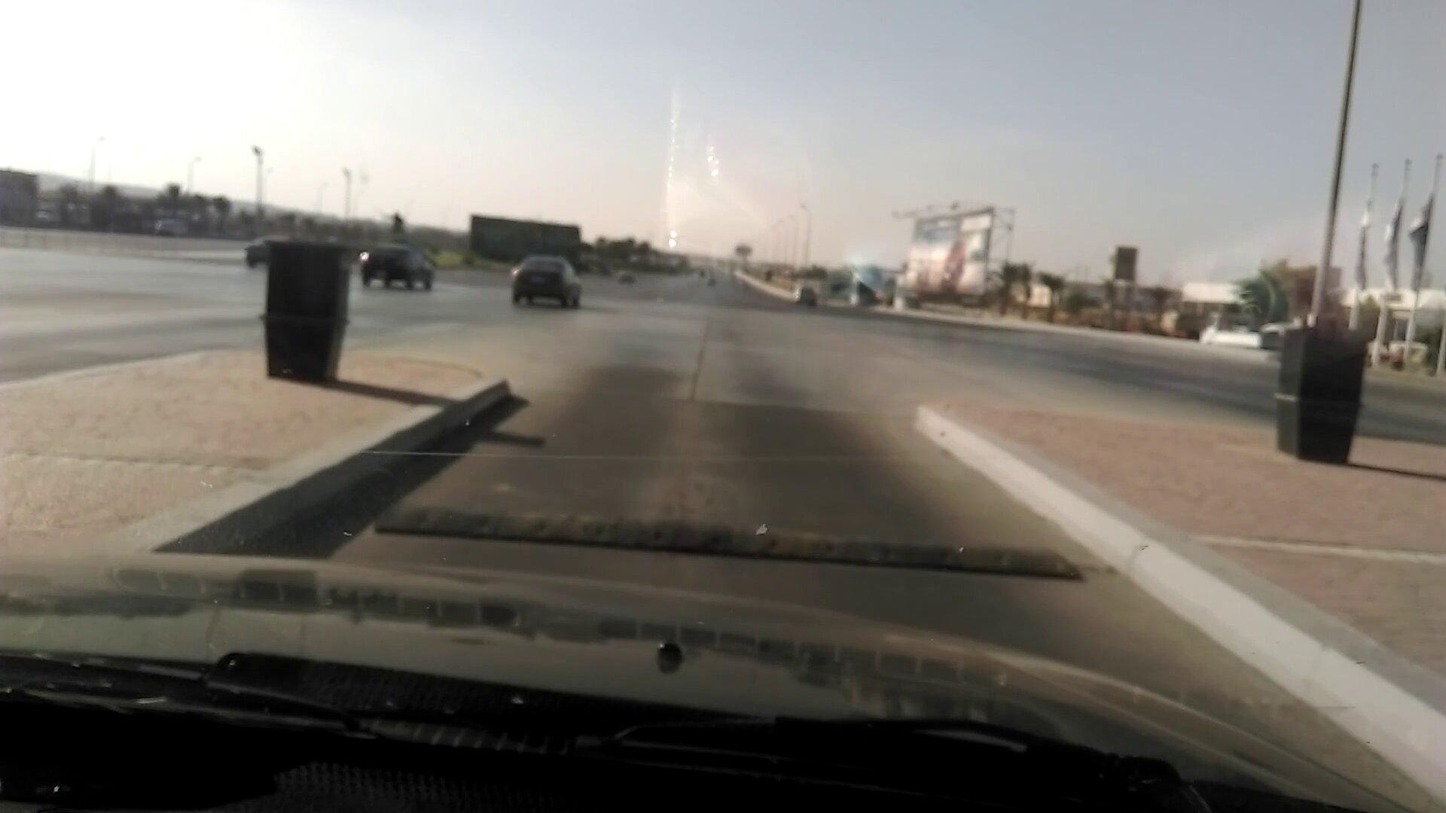Bump: (363, 484, 1135, 593)
